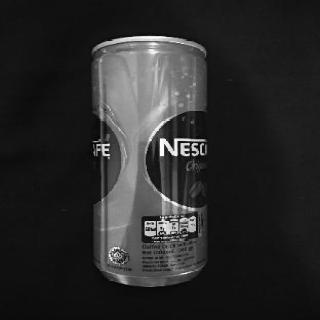alumunium_can: (86, 34, 209, 289)
